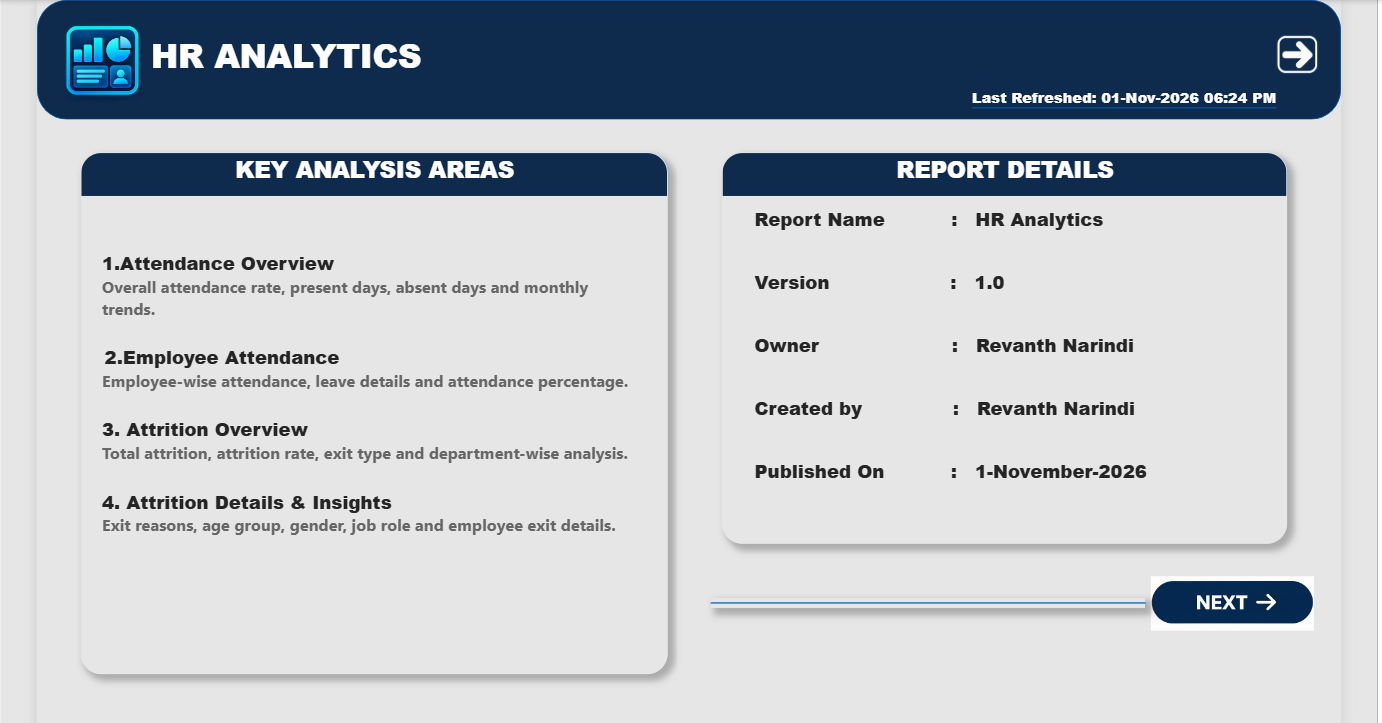

The page's visual inventory and layout, read from the dashboard file:
{"tool":"powerbi","page":{"name":"HOME","canvas":[1920,1080],"ordinal":0},"visuals":[{"type":"shape","box":[0,0,1920,176],"z":0},{"type":"textbox","box":[168,48,696,96],"z":1000},{"type":"image","box":[16,16,160,144],"z":2000},{"type":"image","box":[1824,48,64,64],"z":3000},{"type":"shape","title":"KEY ANALYSIS AREAS","box":[64,224,864,768],"z":4000},{"type":"shape","title":"REPORT DETAILS","box":[1008,224,832,576],"z":5000},{"type":"textbox","box":[96,368,800,528],"z":6000},{"type":"textbox","box":[1056,304,720,464],"z":7000},{"type":"textbox","box":[1376,128,512,48],"z":8000},{"type":"image","box":[1616,848,288,80],"z":8001},{"type":"shape","box":[992,880,640,16],"z":8002}]}

Visuals, with their boxes on the page's 1920x1080 design canvas (x1, y1, x2, y2). These are canvas units, not pixel positions in the 1382x723 screenshot, which may show the page scaled, cropped or inside an application window:
shape: [x1=0, y1=0, x2=1920, y2=176]
textbox: [x1=168, y1=48, x2=864, y2=144]
image: [x1=16, y1=16, x2=176, y2=160]
image: [x1=1824, y1=48, x2=1888, y2=112]
"KEY ANALYSIS AREAS" shape: [x1=64, y1=224, x2=928, y2=992]
"REPORT DETAILS" shape: [x1=1008, y1=224, x2=1840, y2=800]
textbox: [x1=96, y1=368, x2=896, y2=896]
textbox: [x1=1056, y1=304, x2=1776, y2=768]
textbox: [x1=1376, y1=128, x2=1888, y2=176]
image: [x1=1616, y1=848, x2=1904, y2=928]
shape: [x1=992, y1=880, x2=1632, y2=896]
